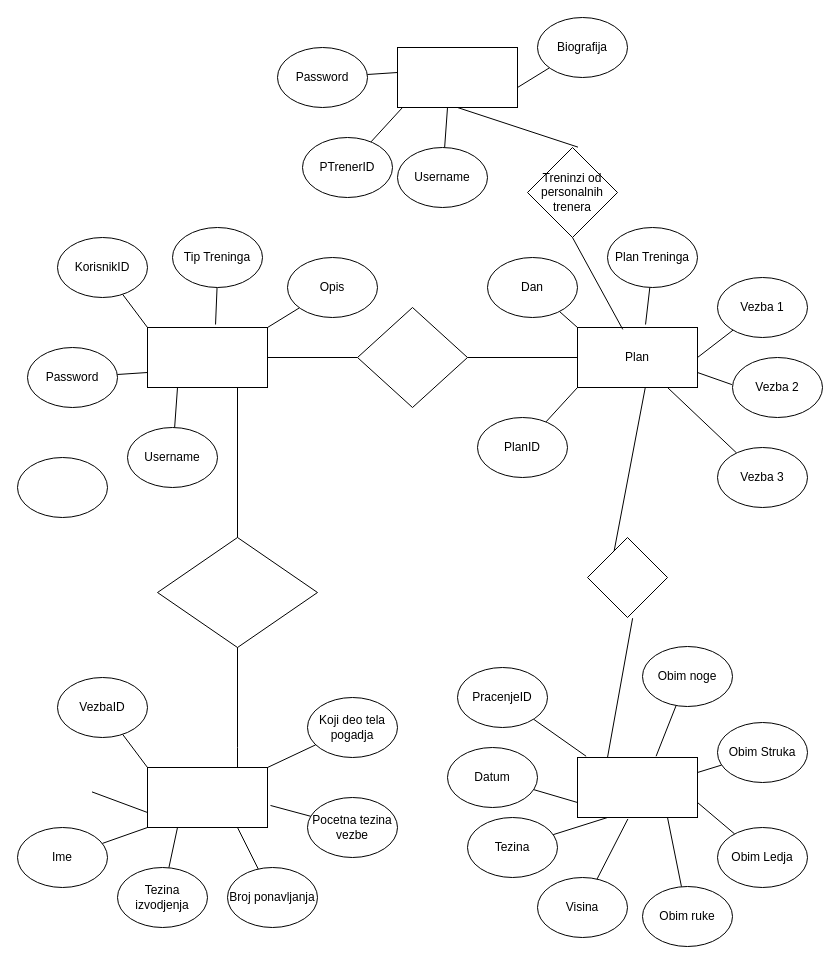
This 840x964 diagram has some shape labels left out. Each missing label, with the centre of its shape:
"Broj vezbe koja je po redu" belongs at (62,487).
"Detalji korisnika i pracenje" belongs at (627,577).
"Korisnicki plan treninga" belongs at (412,357).
"Korisnik" belongs at (207,357).
"Personalni Trener" belongs at (457,77).
"Pracenje Korisnika" belongs at (637,787).
"Vezba" belongs at (207,797).
"Vezba u planu treninga" belongs at (237,592).
